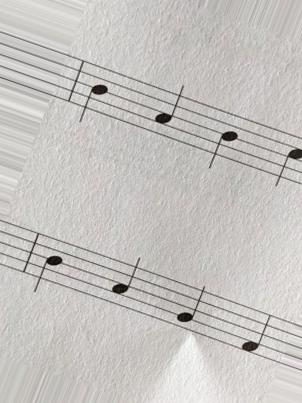note: (71, 53, 110, 128), (151, 80, 186, 158), (204, 99, 240, 174), (238, 296, 273, 369), (110, 253, 144, 325), (174, 277, 207, 350), (30, 230, 65, 297), (271, 120, 302, 193)
